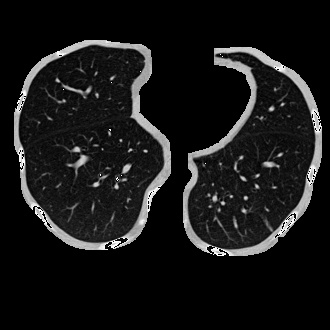PN: (55, 78, 59, 82)
